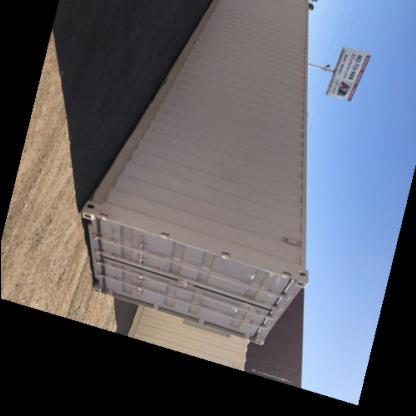Damage: (224, 176, 266, 200)
